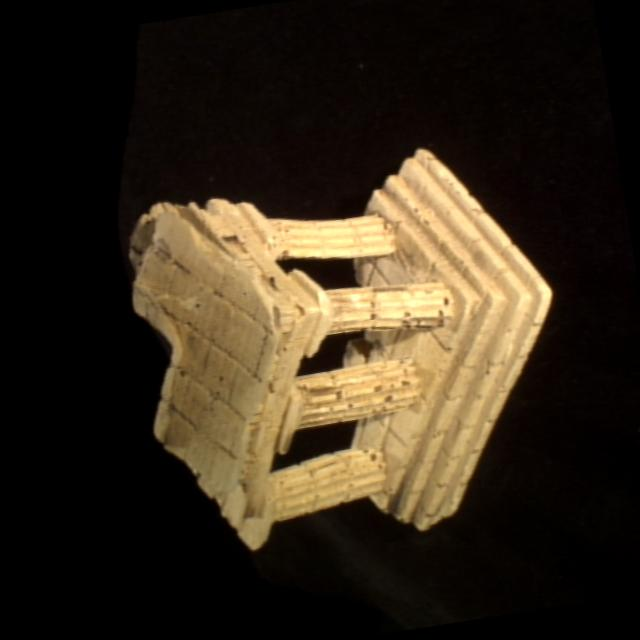Instance-Segmentation: (130, 151, 551, 549)
